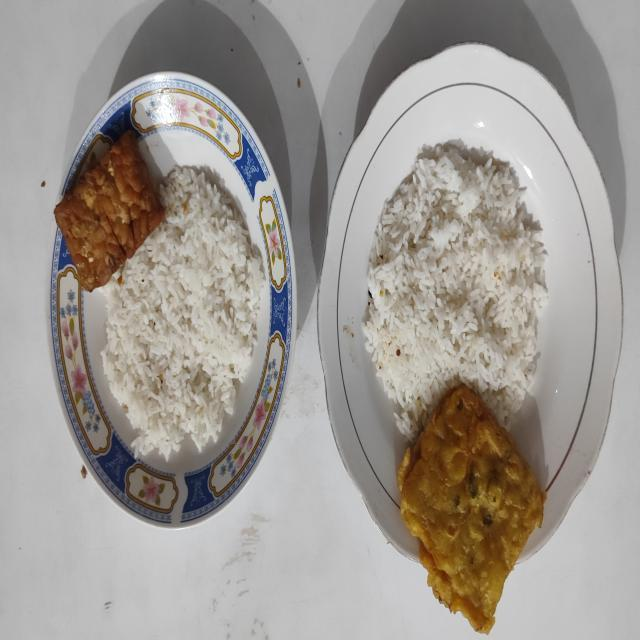nasi_putih: (362, 140, 548, 440), (102, 165, 266, 458)
tempe_goreng: (54, 130, 164, 292)
